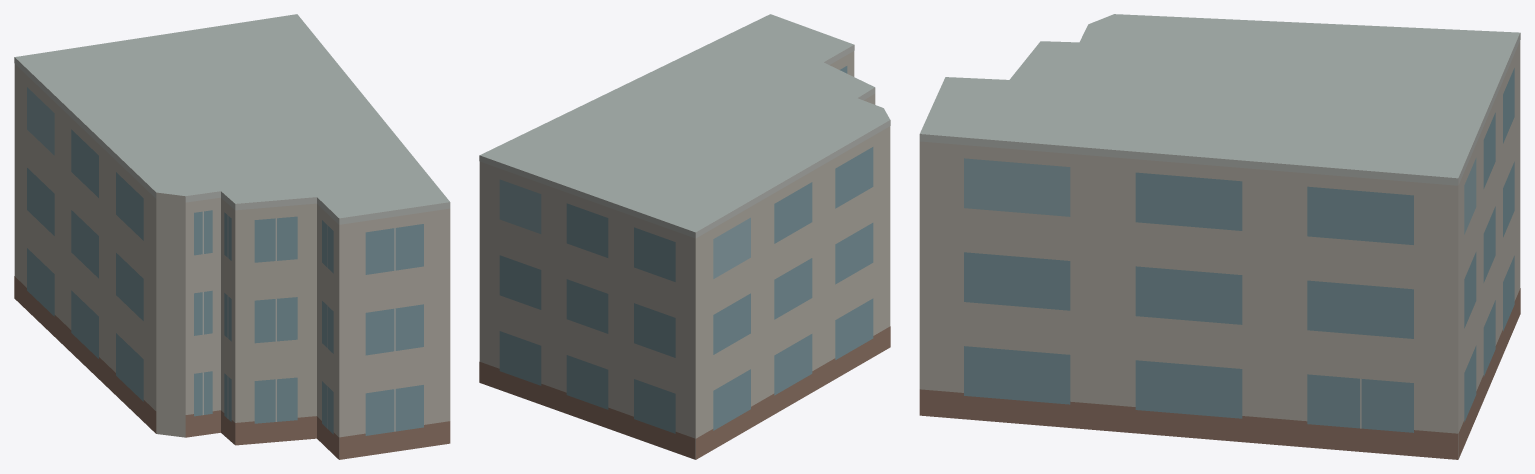
Rendered from survey-upis-32928039.glb.
3 views of the same model, side by side, from view 1: azimuth 30°, elevation 25°; view 2: azimuth 150°, elevation 25°; view 3: azimuth 270°, elevation 25° (orthographic). The views are drawn at different scales.
Visible parts, largest first — view 1: survey-upis-32928039.tmp; view 2: survey-upis-32928039.tmp; view 3: survey-upis-32928039.tmp.
Part boxes in pixels (bbox=[...]): survey-upis-32928039.tmp: bbox=[14, 14, 450, 459]; survey-upis-32928039.tmp: bbox=[479, 14, 890, 459]; survey-upis-32928039.tmp: bbox=[919, 14, 1520, 459].
Bounding box in the file's own units: 11.46 × 9.15 × 17.7.
